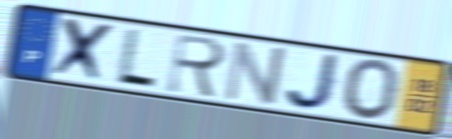J: (282, 52, 344, 113)
L: (112, 26, 159, 91)
N: (221, 38, 290, 108)
O: (341, 57, 402, 123)
R: (163, 31, 230, 101)
X: (47, 15, 118, 86)
